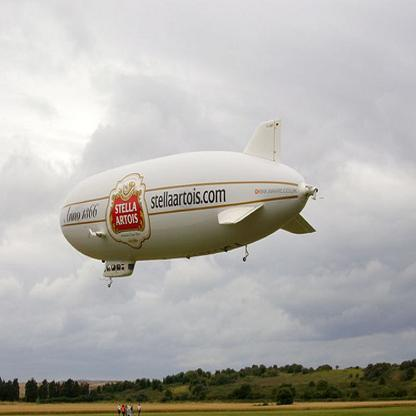Airship: (52, 119, 321, 288)
